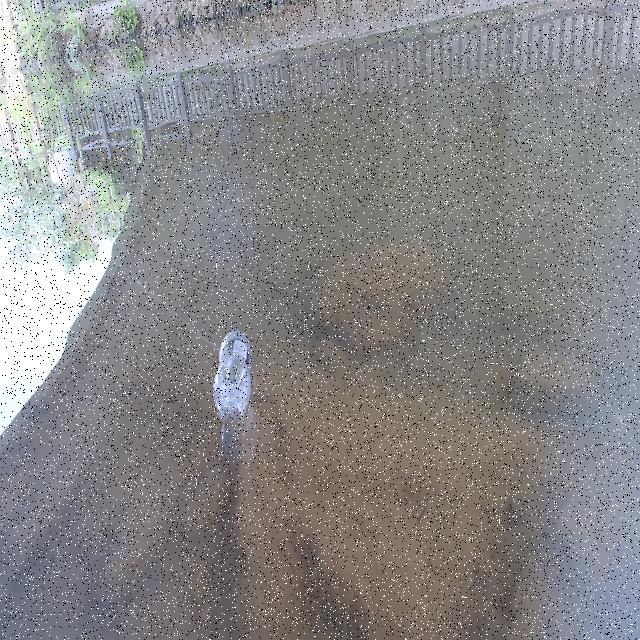Bottle: (211, 324, 254, 424)
